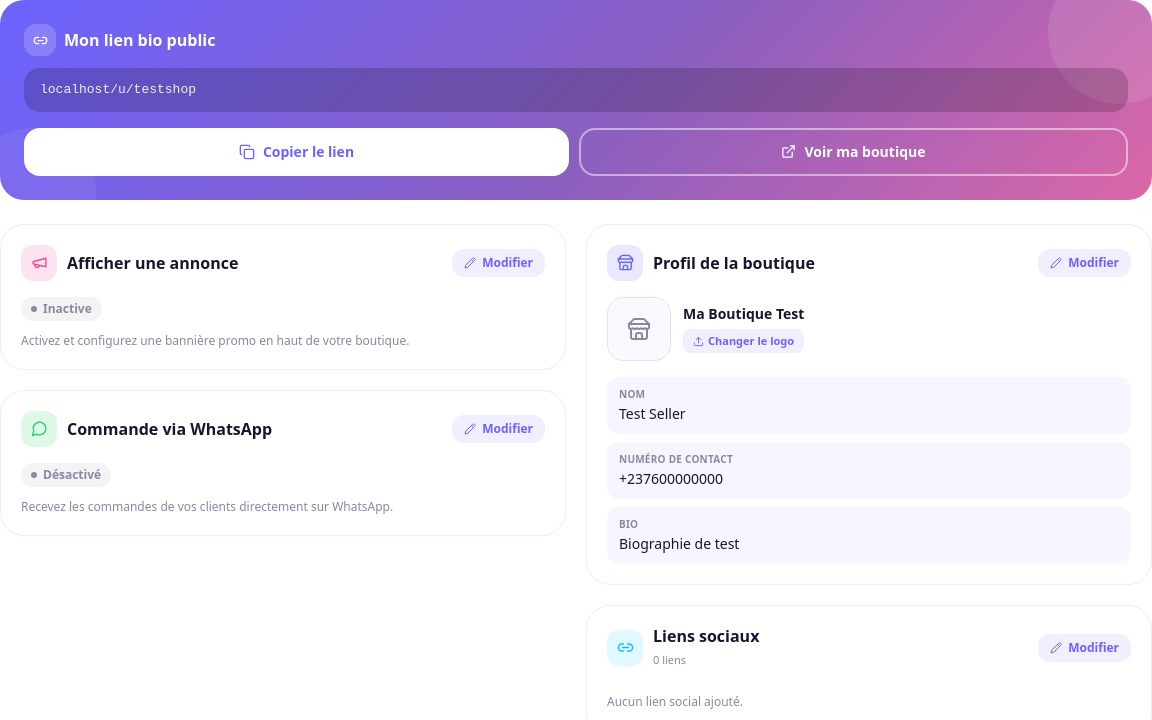
Test: BioLink — section Profil › cliquer "Modifier" active le mode édition (champs deviennent visibles)
Click the button "Modifier" in the row of "Profil de la boutique".
click(1085, 262)  # box [1038,248,1131,276]
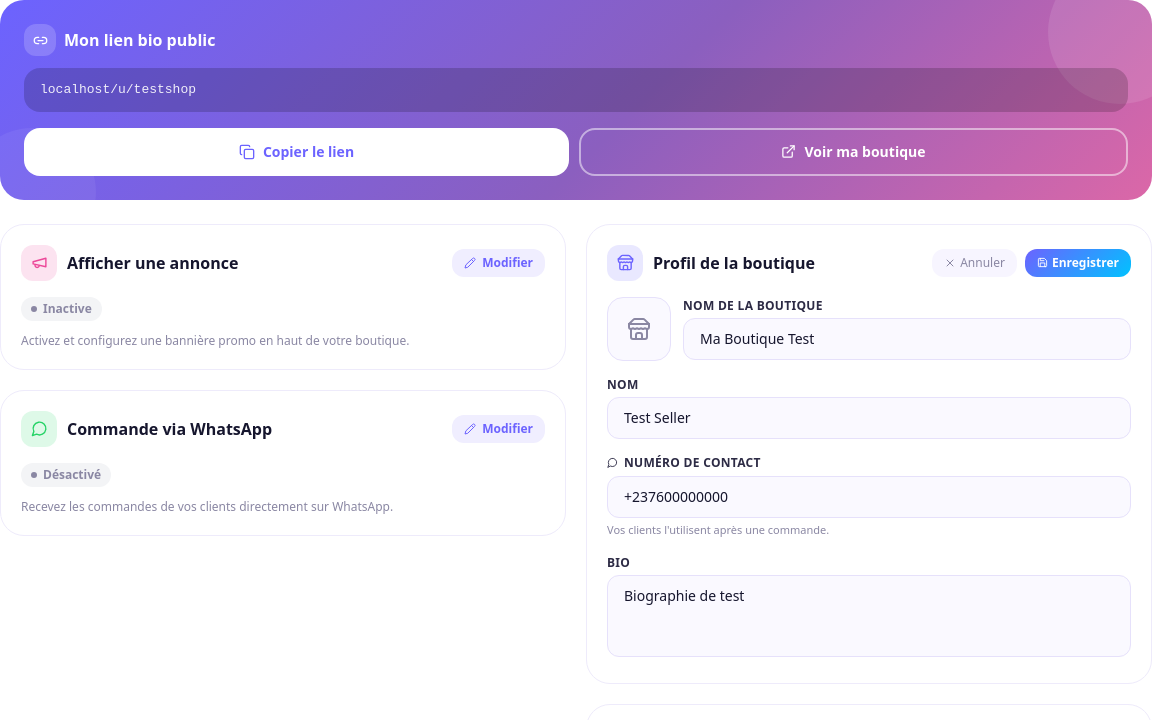
Expected: the field labelled "Nom de la boutique" is shown, [683,318,1131,360]
